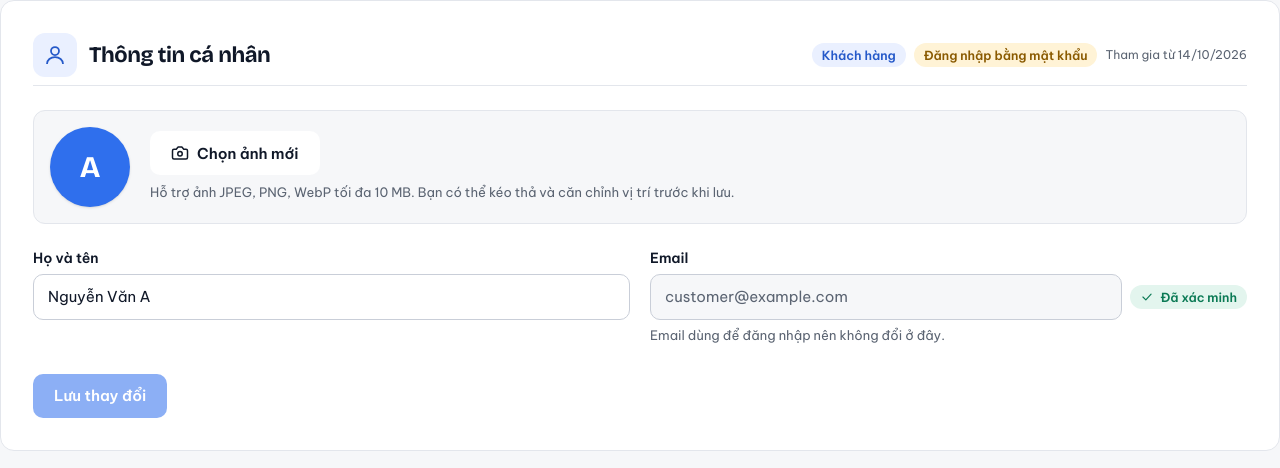
Test case: ProfileInfoCard › reverts name changes when 'Bỏ thay đổi' is clicked
This screenshot has width=1280, height=468.
Type " Modified" into the field labelled "Họ và tên".
click(332, 297); type(" Modified")  # box left=33, top=274, right=630, bottom=320
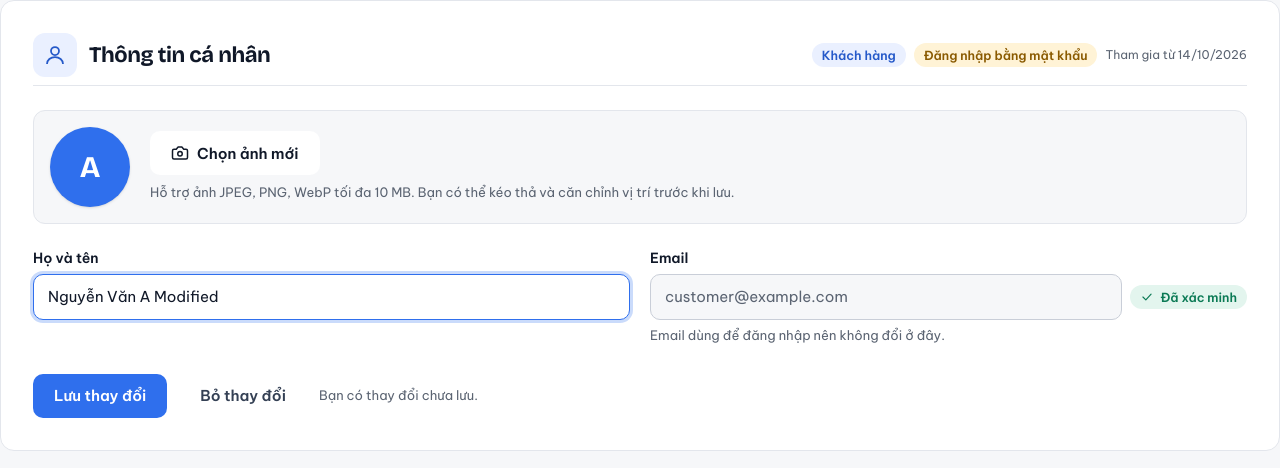
Check: the button "Bỏ thay đổi" is shown
Click the button "Bỏ thay đổi".
click(243, 396)  # box left=179, top=374, right=307, bottom=418
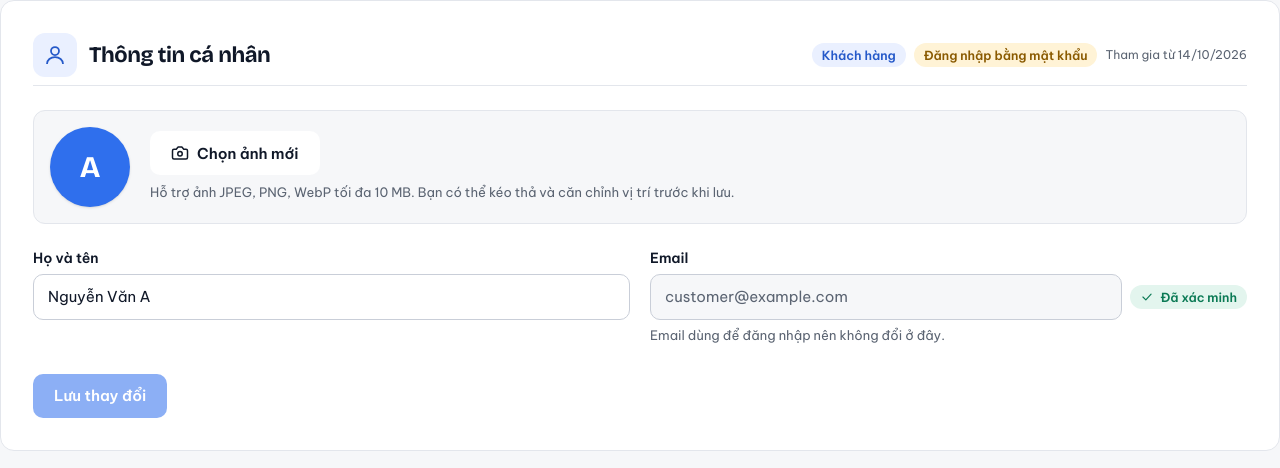
Check: the field labelled "Họ và tên" holds "Nguyễn Văn A", box left=33, top=274, right=630, bottom=320
Check: the button "Bỏ thay đổi" is gone
